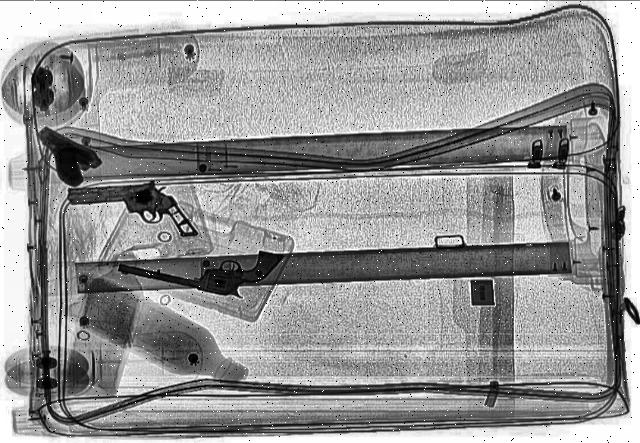Gun: (52, 166, 222, 240), (113, 228, 285, 300), (14, 119, 112, 188)
